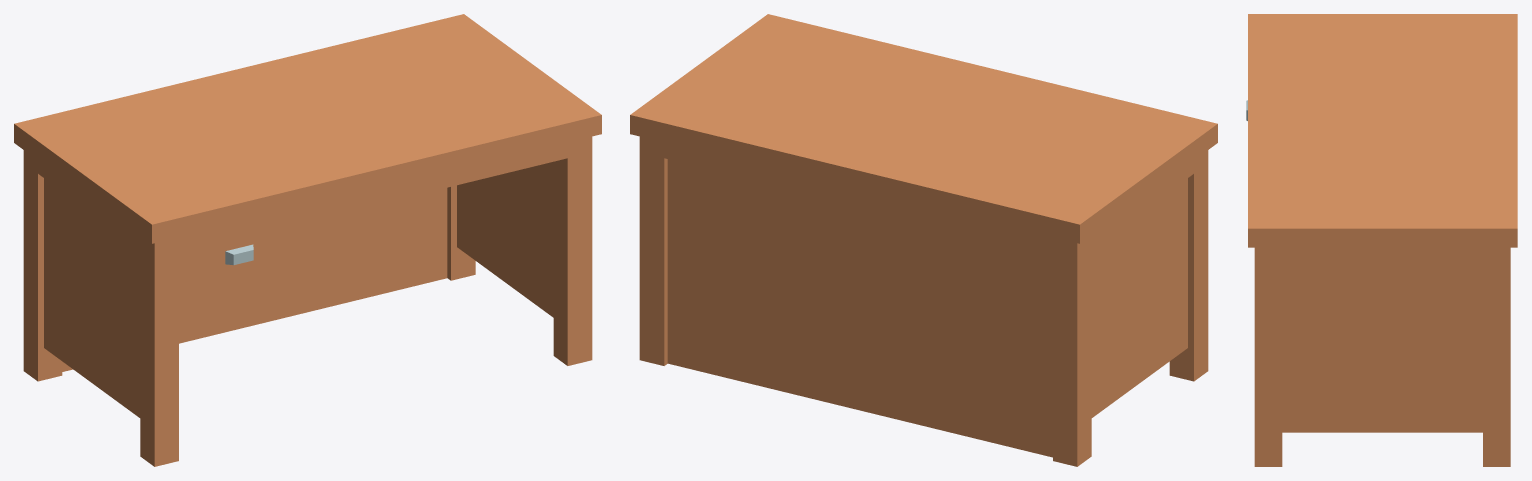
File: Desk.glb
The picture shows the model from 3 angles, left to right: view 1: azimuth 30°, elevation 25°; view 2: azimuth 150°, elevation 25°; view 3: azimuth 270°, elevation 25°; orthographic projection. The views are drawn at different scales.
Visible parts, largest first — view 1: desk(Clone), drawer; view 2: desk(Clone); view 3: desk(Clone).
Part boxes in pixels (x1=…): desk(Clone): x1=14, y1=14, x2=601, y2=466; drawer: x1=179, y1=223, x2=299, y2=284; desk(Clone): x1=630, y1=14, x2=1217, y2=466; desk(Clone): x1=1248, y1=14, x2=1517, y2=466.
Size of the model in its own units: 0.7345 by 0.3844 by 0.3923.
